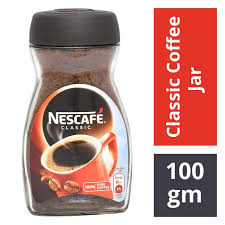nescafe-classic/gold-med: (23, 12, 130, 216)
